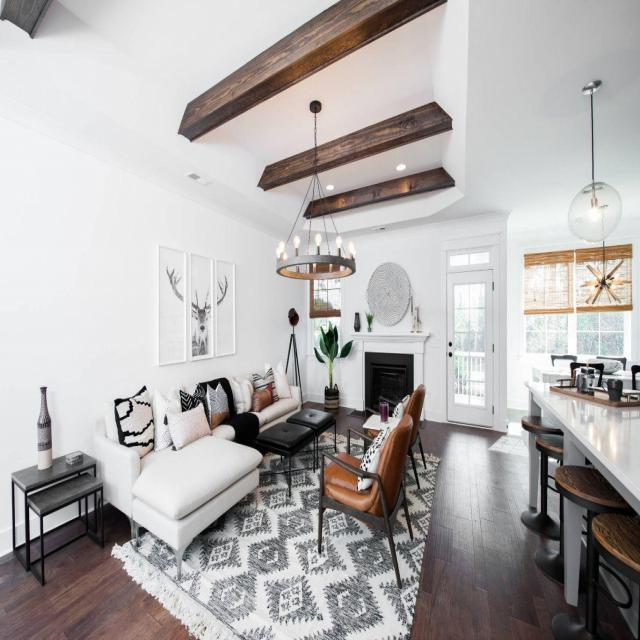couch: (93, 361, 301, 581)
